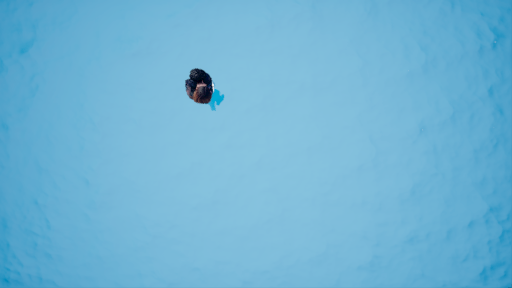person: (184, 68, 231, 114)
